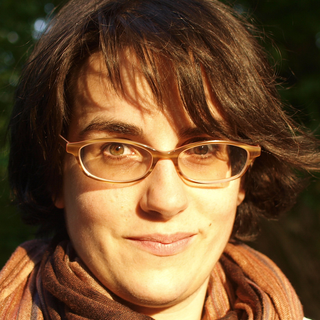eye: (97, 140, 146, 161)
